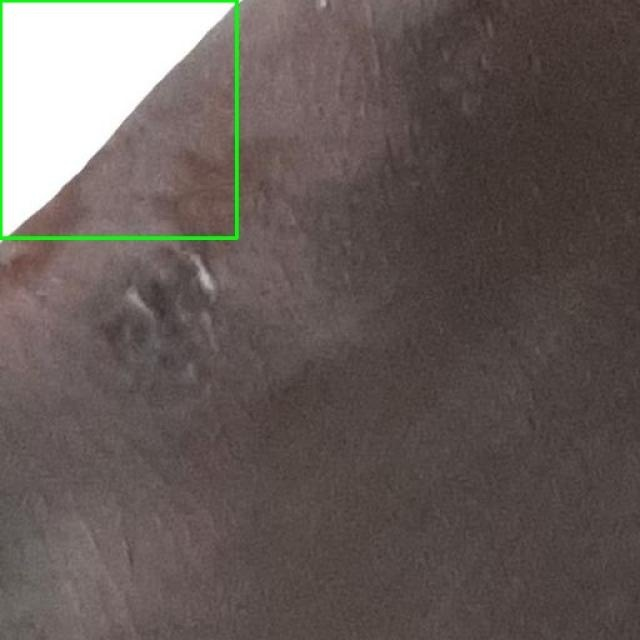Eczema: (0, 0, 236, 238)
